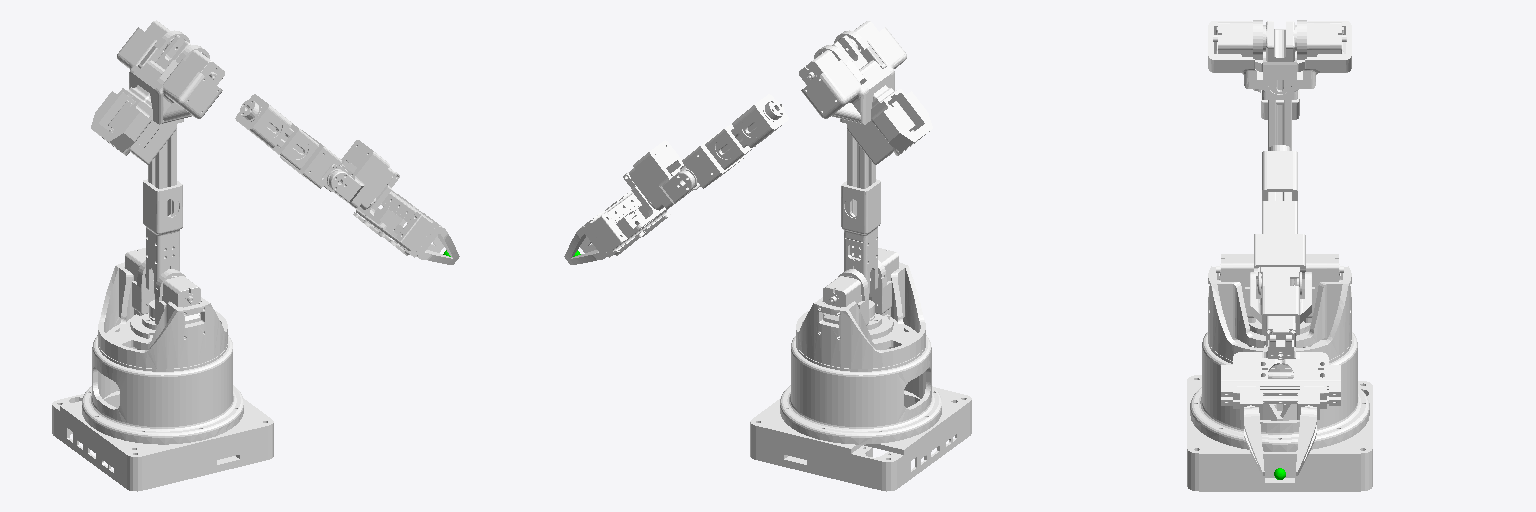
URDF robot description (alicia_duo_descriptions):
<?xml version="1.0" encoding="utf-8"?>
<!-- This URDF was automatically created by SolidWorks to URDF Exporter! Originally created by [author] ([email redacted]) 
     Commit Version: 1.6.0-4-g7f85cfe  Build Version: 1.6.7995.38578
     For more information, please see http://wiki.ros.org/sw_urdf_exporter -->
<robot
  name="alicia_duo_descriptions">
  <link
    name="base_link">
    <visual>
      <origin
        xyz="0 0 0"
        rpy="0 0 0" />
      <geometry>
        <mesh
          filename="package://alicia_duo_descriptions/meshes/base_link.STL" />
      </geometry>
      <material
        name="">
        <color
          rgba="1 1 1 1" />
      </material>
    </visual>
    <collision>
      <origin
        xyz="0 0 0"
        rpy="0 0 0" />
      <geometry>
        <mesh
          filename="package://alicia_duo_descriptions/meshes/base_link.STL" />
      </geometry>
    </collision>
  </link>
  <link
    name="Link1">
    <inertial>
      <origin
        xyz="7.1808E-05 0.00011331 0.054988"
        rpy="0 0 0" />
      <mass
        value="0.1961" />
      <inertia
        ixx="0.00025127"
        ixy="2.4433E-07"
        ixz="7.4121E-08"
        iyy="0.00012563"
        iyz="4.1559E-08"
        izz="0.00031522" />
    </inertial>
    <visual>
      <origin
        xyz="0 0 0"
        rpy="0 0 0" />
      <geometry>
        <mesh
          filename="package://alicia_duo_descriptions/meshes/Link1.STL" />
      </geometry>
      <material
        name="">
        <color
          rgba="1 1 1 1" />
      </material>
    </visual>
    <collision>
      <origin
        xyz="0 0 0"
        rpy="0 0 0" />
      <geometry>
        <mesh
          filename="package://alicia_duo_descriptions/meshes/Link1.STL" />
      </geometry>
    </collision>
  </link>
  <joint
    name="Joint1"
    type="revolute">
    <origin
      xyz="0 0 0.0745"
      rpy="0 0 0" />
    <parent
      link="base_link" />
    <child
      link="Link1" />
    <axis
      xyz="0 0 1" />
    <limit
      lower="-2.16"
      upper="2.16"
      effort="12"
      velocity="5" />
  </joint>
  <link
    name="Link2">
    <inertial>
      <origin
        xyz="0.15107 -0.014052 -5.8128E-05"
        rpy="0 0 0" />
      <mass
        value="0.21717" />
      <inertia
        ixx="0.00013186"
        ixy="5.9949E-06"
        ixz="-3.0761E-06"
        iyy="0.00021477"
        iyz="3.2832E-07"
        izz="0.00012724" />
    </inertial>
    <visual>
      <origin
        xyz="0 0 0"
        rpy="0 0 0" />
      <geometry>
        <mesh
          filename="package://alicia_duo_descriptions/meshes/Link2.STL" />
      </geometry>
      <material
        name="">
        <color
          rgba="1 1 1 1" />
      </material>
    </visual>
    <collision>
      <origin
        xyz="0 0 0"
        rpy="0 0 0" />
      <geometry>
        <mesh
          filename="package://alicia_duo_descriptions/meshes/Link2.STL" />
      </geometry>
    </collision>
  </link>
  <joint
    name="Joint2"
    type="revolute">
    <origin
      xyz="-4E-05 0 0.09361"
      rpy="-1.5708 -1.4701 0" />
    <parent
      link="Link1" />
    <child
      link="Link2" />
    <axis
      xyz="0 0 1" />
    <limit
      lower="-3.14"
      upper="3.14"
      effort="12"
      velocity="5" />
  </joint>
  <link
    name="Link3">
    <inertial>
      <origin
        xyz="-0.00302856221408143 -0.0581994772199088 -0.00047829449592837"
        rpy="0 0 0" />
      <mass
        value="0.0865602005421272" />
      <inertia
        ixx="7.08139311465948E-05"
        ixy="-2.15530524975187E-06"
        ixz="-3.73515851249802E-07"
        iyy="2.93740492594595E-05"
        iyz="-5.06280707236989E-06"
        izz="7.53468971475965E-05" />
    </inertial>
    <visual>
      <origin
        xyz="0 0 0"
        rpy="0 0 0" />
      <geometry>
        <mesh
          filename="package://alicia_duo_descriptions/meshes/Link3.STL" />
      </geometry>
      <material
        name="">
        <color
          rgba="1 1 1 1" />
      </material>
    </visual>
    <collision>
      <origin
        xyz="0 0 0"
        rpy="0 0 0" />
      <geometry>
        <mesh
          filename="package://alicia_duo_descriptions/meshes/Link3.STL" />
      </geometry>
    </collision>
  </link>
  <joint
    name="Joint3"
    type="revolute">
    <origin
      xyz="0.22471 0 0.0004"
      rpy="0 0 -2.4569" />
    <parent
      link="Link2" />
    <child
      link="Link3" />
    <axis
      xyz="0 0 1" />
    <limit
      lower="-3.14"
      upper="3.14"
      effort="12"
      velocity="5" />
  </joint>
  <link
    name="Link4">
    <inertial>
      <origin
        xyz="-5.08168284341082E-07 -0.00029327303500894 0.0689595985441509"
        rpy="0 0 0" />
      <mass
        value="0.0943760430662397" />
      <inertia
        ixx="2.91454313334424E-05"
        ixy="2.30645167594814E-10"
        ixz="1.14165678767118E-09"
        iyy="2.78832974647989E-05"
        iyz="-3.3816587479662E-07"
        izz="1.74699240092054E-05" />
    </inertial>
    <visual>
      <origin
        xyz="0 0 0"
        rpy="0 0 0" />
      <geometry>
        <mesh
          filename="package://alicia_duo_descriptions/meshes/Link4.STL" />
      </geometry>
      <material
        name="">
        <color
          rgba="1 1 1 1" />
      </material>
    </visual>
    <collision>
      <origin
        xyz="0 0 0"
        rpy="0 0 0" />
      <geometry>
        <mesh
          filename="package://alicia_duo_descriptions/meshes/Link4.STL" />
      </geometry>
    </collision>
  </link>
  <joint
    name="Joint4"
    type="revolute">
    <origin
      xyz="0.00211 -0.0969 -0.0005"
      rpy="1.5708 0 0" />
    <parent
      link="Link3" />
    <child
      link="Link4" />
    <axis
      xyz="0 0 1" />
    <limit
      lower="-3.14"
      upper="3.14"
      effort="12"
      velocity="5" />
  </joint>
  <link
    name="Link5">
    <inertial>
      <origin
        xyz="-0.0117308607950611 -0.02707823363479 0.000843233457865933"
        rpy="0 0 0" />
      <mass
        value="0.0298054906363541" />
      <inertia
        ixx="1.00571793842848E-05"
        ixy="-1.33618696334041E-06"
        ixz="-1.03835147521356E-07"
        iyy="1.43226276019951E-05"
        iyz="-1.60850894178713E-07"
        izz="1.07199721232635E-05" />
    </inertial>
    <visual>
      <origin
        xyz="0 0 0"
        rpy="0 0 0" />
      <geometry>
        <mesh
          filename="package://alicia_duo_descriptions/meshes/Link5.STL" />
      </geometry>
      <material
        name="">
        <color
          rgba="1 1 1 1" />
      </material>
    </visual>
    <collision>
      <origin
        xyz="0 0 0"
        rpy="0 0 0" />
      <geometry>
        <mesh
          filename="package://alicia_duo_descriptions/meshes/Link5.STL" />
      </geometry>
    </collision>
  </link>
  <joint
    name="Joint5"
    type="revolute">
    <origin
      xyz="0.00014 0.0002 0.12011"
      rpy="-1.5708 0 0" />
    <parent
      link="Link4" />
    <child
      link="Link5" />
    <axis
      xyz="0 0 1" />
    <limit
      lower="-3.14"
      upper="3.14"
      effort="12"
      velocity="5" />
  </joint>
  <link
    name="Link6">
    <inertial>
      <origin
        xyz="-3.11347159165365E-09 6.1996621497553E-10 -0.00146275616399945"
        rpy="0 0 0" />
      <mass
        value="0.00075405362358679" />
      <inertia
        ixx="1.92367692913405E-08"
        ixy="9.19452447394752E-14"
        ixz="3.52333006367405E-15"
        iyy="1.92358360258474E-08"
        iyz="-3.90127282952403E-17"
        izz="3.70123450485907E-08" />
    </inertial>
    <visual>
      <origin
        xyz="0 0 0"
        rpy="0 0 0" />
      <geometry>
        <mesh
          filename="package://alicia_duo_descriptions/meshes/Link6.STL" />
      </geometry>
      <material
        name="">
        <color
          rgba="1 1 1 1" />
      </material>
    </visual>
    <collision>
      <origin
        xyz="0 0 0"
        rpy="0 0 0" />
      <geometry>
        <mesh
          filename="package://alicia_duo_descriptions/meshes/Link6.STL" />
      </geometry>
    </collision>
  </link>
  <joint
    name="Joint6"
    type="revolute">
    <origin
      xyz="-0.00389 -0.0592 0.00064"
      rpy="1.5708 0 0" />
    <parent
      link="Link5" />
    <child
      link="Link6" />
    <axis
      xyz="0 0 1" />
    <limit
      lower="-3.14"
      upper="3.14"
      effort="12"
      velocity="5" />
  </joint>
  <link
    name="Grasp_base">
    <inertial>
      <origin
        xyz="-0.0011655281691727 0.000653296052045323 0.0287714514529389"
        rpy="0 0 0" />
      <mass
        value="0.0482959693358257" />
      <inertia
        ixx="5.26092663212743E-05"
        ixy="-7.51486127271044E-08"
        ixz="4.87630447298486E-07"
        iyy="1.16846563417782E-05"
        iyz="1.93051292104745E-07"
        izz="5.0903565077189E-05" />
    </inertial>
    <visual>
      <origin
        xyz="0 0 0"
        rpy="0 0 0" />
      <geometry>
        <mesh
          filename="package://alicia_duo_descriptions/meshes/Grasp_base.STL" />
      </geometry>
      <material
        name="">
        <color
          rgba="1 1 1 1" />
      </material>
    </visual>
    <collision>
      <origin
        xyz="0 0 0"
        rpy="0 0 0" />
      <geometry>
        <mesh
          filename="package://alicia_duo_descriptions/meshes/Grasp_base.STL" />
      </geometry>
    </collision>
  </link>
  <joint
    name="Joint6_to_gripper_base"
    type="fixed">
    <origin
      xyz="0 0 0"
      rpy="0 0 0" />
    <parent
      link="Link6" />
    <child
      link="Grasp_base" />
    <axis
      xyz="0 0 0" />
  </joint>
  <link
    name="Link7">
    <inertial>
      <origin
        xyz="0.00251938005470254 -0.0478416586551963 -0.00586388602065606"
        rpy="0 0 0" />
      <mass
        value="0.0298800419940728" />
      <inertia
        ixx="5.37602725468321E-06"
        ixy="4.57138780207955E-07"
        ixz="3.44618099913482E-09"
        iyy="3.83966068819012E-06"
        iyz="-5.32359727667237E-09"
        izz="7.8167142043849E-06" />
    </inertial>
    <visual>
      <origin
        xyz="0 0 0"
        rpy="0 0 0" />
      <geometry>
        <mesh
          filename="package://alicia_duo_descriptions/meshes/Link7.STL" />
      </geometry>
      <material
        name="">
        <color
          rgba="1 1 1 1" />
      </material>
    </visual>
    <collision>
      <origin
        xyz="0 0 0"
        rpy="0 0 0" />
      <geometry>
        <mesh
          filename="package://alicia_duo_descriptions/meshes/Link7.STL" />
      </geometry>
    </collision>
  </link>
  <joint
    name="Reft_finger"
    type="prismatic">
    <origin
      xyz="-0.0065308 -0.015222 0.11382"
      rpy="1.5708 0 0" />
    <parent
      link="Grasp_base" />
    <child
      link="Link7" />
    <axis
      xyz="0 0 -1" />
    <limit
      lower="0"
      upper="0.0125"
      effort="0"
      velocity="0" />
  </joint>
  <link
    name="tool0">
     <visual>
      <origin
        xyz="0 0 0" 
        rpy="0 0 0" />
      <geometry>
        <sphere radius="0.005" /> <!-- 定义一个半径为0.02米的小球体 -->
      </geometry>
      <material
        name="green_virtual_sphere_material"> <!-- 可以给材质起个名字 -->
        <color
          rgba="0 1 0 1" /> <!-- 绿色 (R G B A)，A为1表示不透明 -->
      </material>
    </visual>
  </link>
  <joint
    name="Grasp2tool"
    type="fixed">
    <origin
      xyz="-0.0065308 -0.00063845 0.11382"
      rpy="0 0 0" />
    <parent
      link="Grasp_base" />
    <child
      link="tool0" />
    <axis
      xyz="0 0 0" />
  </joint>
  <link
    name="Link8">
    <inertial>
      <origin
        xyz="-0.00252444987589934 -0.0478416797997642 -0.00577908200176484"
        rpy="0 0 0" />
      <mass
        value="0.0298800419940728" />
      <inertia
        ixx="5.3760272551167E-06"
        ixy="-4.60064397458462E-07"
        ixz="3.44549357218208E-09"
        iyy="3.84255821485079E-06"
        iyz="5.32358884287877E-09"
        izz="7.81961173147026E-06" />
    </inertial>
    <visual>
      <origin
        xyz="0 0 0"
        rpy="0 0 0" />
      <geometry>
        <mesh
          filename="package://alicia_duo_descriptions/meshes/Link8.STL" />
      </geometry>
      <material
        name="">
        <color
          rgba="1 1 1 1" />
      </material>
    </visual>
    <collision>
      <origin
        xyz="0 0 0"
        rpy="0 0 0" />
      <geometry>
        <mesh
          filename="package://alicia_duo_descriptions/meshes/Link8.STL" />
      </geometry>
    </collision>
  </link>
  <joint
    name="Light_finger"
    type="prismatic">
    <origin
      xyz="-0.0065308 0.013945 0.11382"
      rpy="1.5708 0 3.1416" />
    <parent
      link="Grasp_base" />
    <child
      link="Link8" />
    <axis
      xyz="0 0 1" />
    <limit
      lower="-0.0125"
      upper="0"
      effort="0"
      velocity="0" />
  </joint>
</robot>

--- What the picture shows (computed from the rendered views, not written in the file) ---
3 views of the same robot in one strip: view 1: azimuth 30°, elevation 25°; view 2: azimuth 150°, elevation 25°; view 3: azimuth 270°, elevation 25° (orthographic).
Model alicia_duo_descriptions with 11 links and 10 joints (6 revolute, 2 prismatic, 2 fixed), rooted at base_link, posed every joint at zero.
Links seen in each view (by area): view 1: base_link, Link2, Link1, Link3, Link4, Link5, Grasp_base, Link7; view 2: base_link, Link2, Link1, Link3, Link4, Link5, Grasp_base, Link8; view 3: base_link, Link1, Link2, Link4, Grasp_base, Link5, Link7, Link8, Link3.
Boxes of the visible links, bbox=[...] form: base_link: bbox=[52, 324, 273, 491]; Link2: bbox=[117, 20, 224, 293]; Link1: bbox=[98, 248, 227, 368]; Link3: bbox=[91, 35, 199, 164]; Link4: bbox=[235, 94, 347, 191]; Link5: bbox=[329, 140, 394, 209]; Grasp_base: bbox=[352, 167, 438, 255]; Link7: bbox=[379, 211, 459, 264]; base_link: bbox=[750, 324, 971, 491]; Link2: bbox=[799, 21, 906, 293]; Link1: bbox=[796, 248, 925, 368]; Link3: bbox=[823, 35, 932, 164]; Link4: bbox=[680, 94, 788, 189]; Link5: bbox=[629, 140, 694, 210]; Grasp_base: bbox=[584, 168, 671, 256]; Link8: bbox=[564, 211, 644, 264]; base_link: bbox=[1187, 332, 1372, 491]; Link1: bbox=[1208, 254, 1351, 368]; Link2: bbox=[1208, 20, 1351, 285]; Link4: bbox=[1254, 145, 1305, 295]; Grasp_base: bbox=[1221, 335, 1340, 405]; Link5: bbox=[1250, 272, 1311, 346]; Link7: bbox=[1233, 386, 1264, 475]; Link8: bbox=[1296, 386, 1326, 475]; Link3: bbox=[1253, 21, 1299, 119].
Size in the robot's own frame: 0.3866 by 0.155 by 0.4073 metres.
10 mesh visuals loaded from 10 distinct referenced files (10 binary STL).
